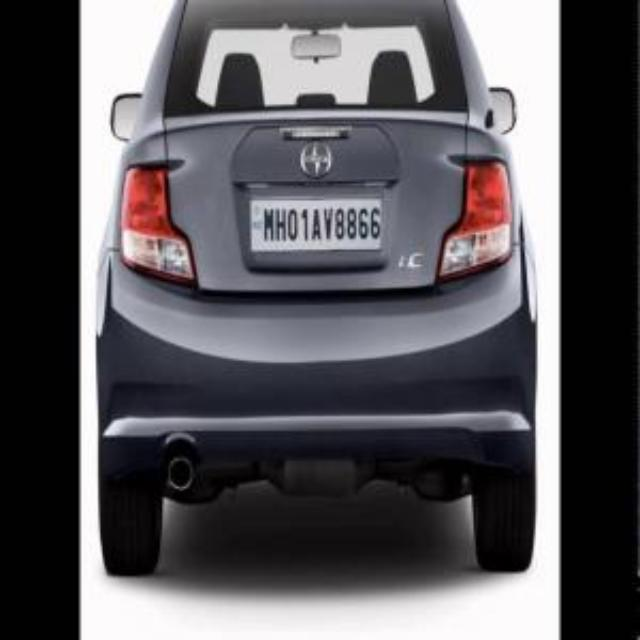License Plate: (247, 194, 387, 253)
